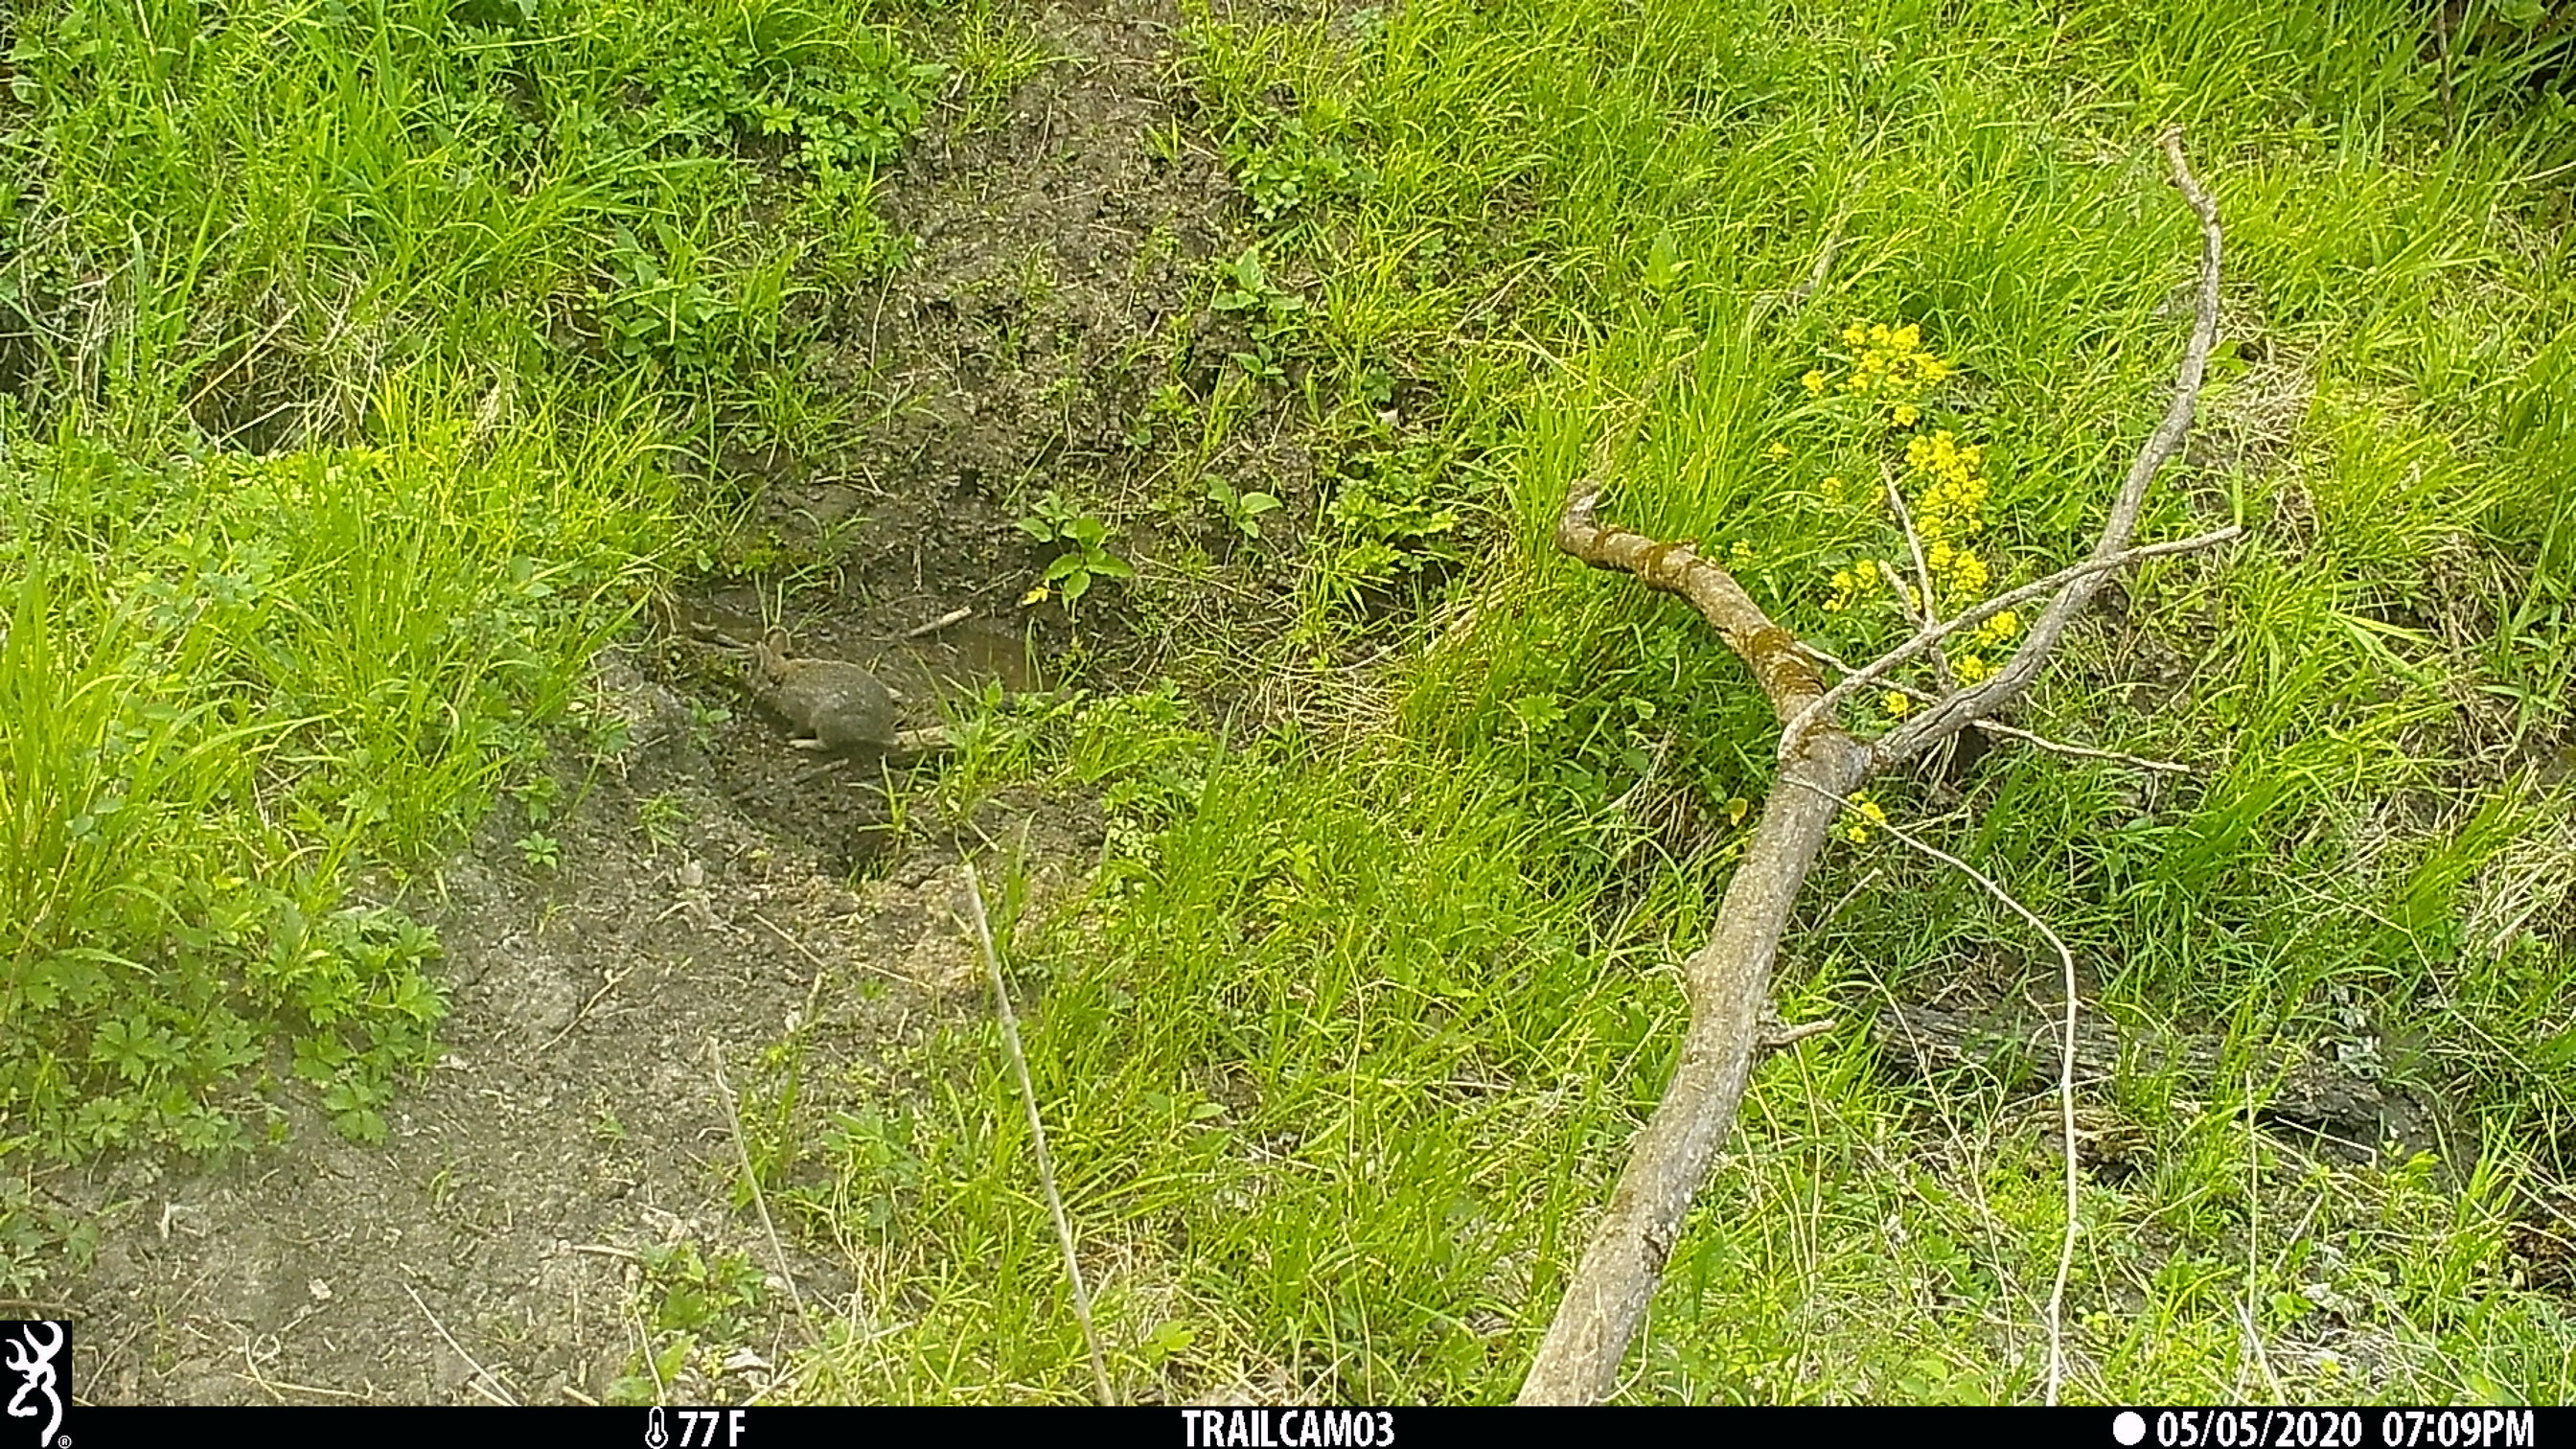Rabbit: (729, 625, 902, 754)
